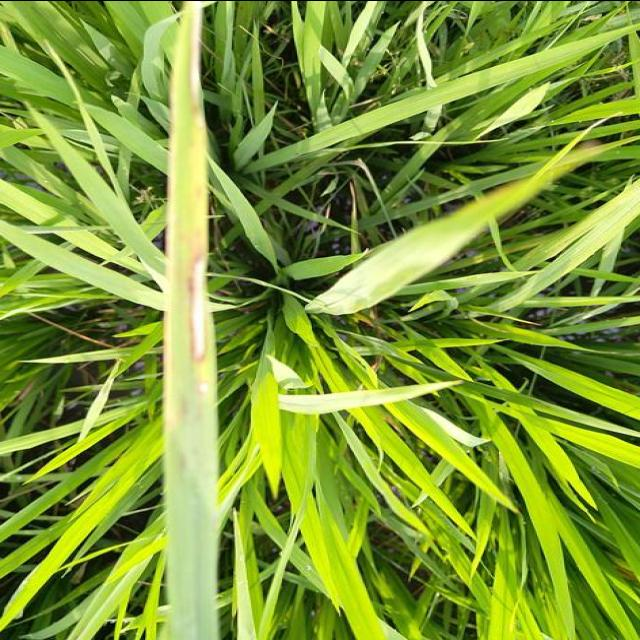Leaf Blight: (163, 91, 178, 425), (187, 244, 210, 363), (193, 0, 206, 114), (178, 391, 197, 444), (197, 381, 209, 395)
